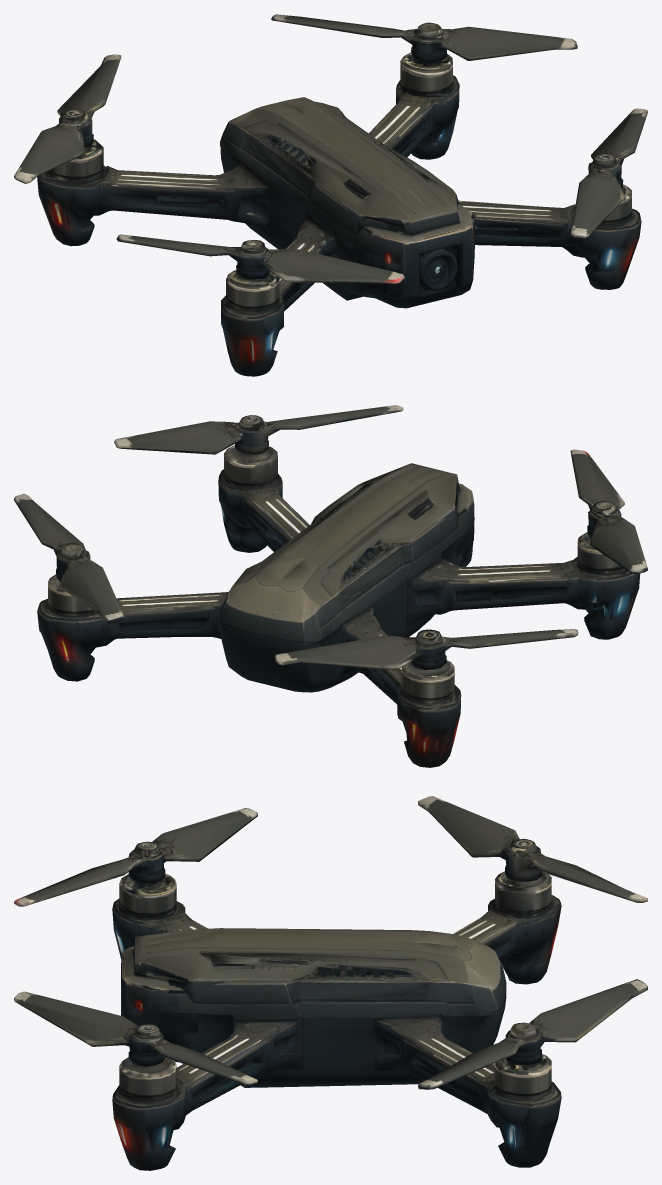
Rendered from drone.glb.
3 renders of one model, top to bottom at view 1: azimuth 30°, elevation 25°; view 2: azimuth 150°, elevation 25°; view 3: azimuth 270°, elevation 25°, orthographic. The views are drawn at different scales.
Visible parts, largest first — view 1: Body, Rotor_RR_shape, Rotor_FL_shape, Rotor_RL_shape, Rotor_FR_shape; view 2: Body, Rotor_RL_shape, Rotor_FR_shape, Rotor_RR_shape, Rotor_FL_shape; view 3: Body, Rotor_RR_shape, Rotor_FR_shape, Rotor_RL_shape, Rotor_FL_shape.
Boxes of the visible parts, left/top/right/bottom form: Body: left=37, top=45, right=641, bottom=376; Rotor_RR_shape: left=271, top=14, right=577, bottom=60; Rotor_FL_shape: left=116, top=234, right=404, bottom=283; Rotor_RL_shape: left=14, top=54, right=121, bottom=183; Rotor_FR_shape: left=571, top=108, right=647, bottom=237; Body: left=37, top=437, right=640, bottom=767; Rotor_RL_shape: left=274, top=629, right=578, bottom=670; Rotor_FR_shape: left=114, top=405, right=403, bottom=454; Rotor_RR_shape: left=14, top=493, right=124, bottom=623; Rotor_FL_shape: left=570, top=449, right=647, bottom=574; Body: left=45, top=861, right=561, bottom=1170; Rotor_RR_shape: left=418, top=979, right=647, bottom=1089; Rotor_FR_shape: left=14, top=991, right=257, bottom=1084; Rotor_RL_shape: left=418, top=796, right=647, bottom=902; Rotor_FL_shape: left=14, top=808, right=257, bottom=906.
Size of the model in its own units: 1.9 by 0.4218 by 1.75.
Materials: 1 (1 with a texture image).
